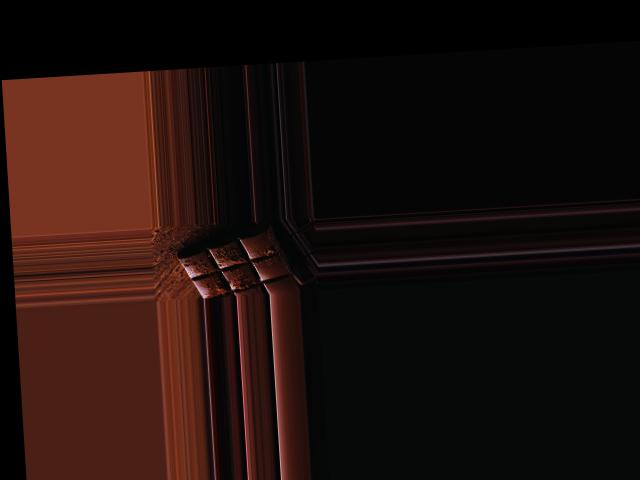chocolate: (170, 224, 300, 299)
